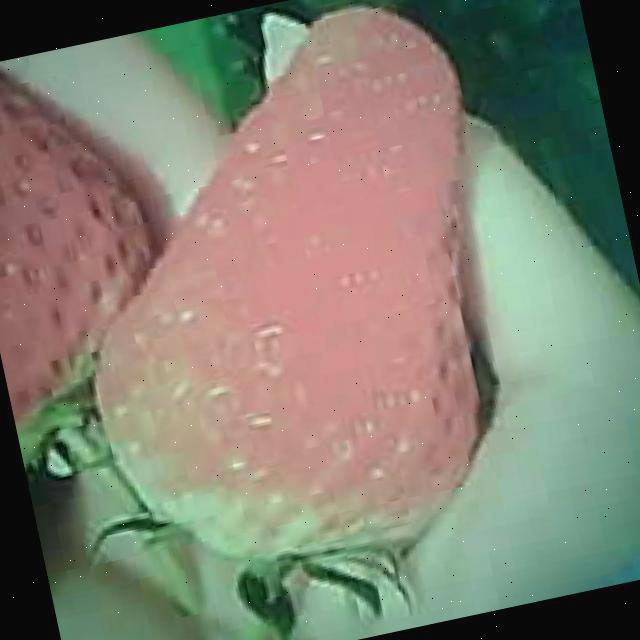ripe: (31, 0, 550, 599)
